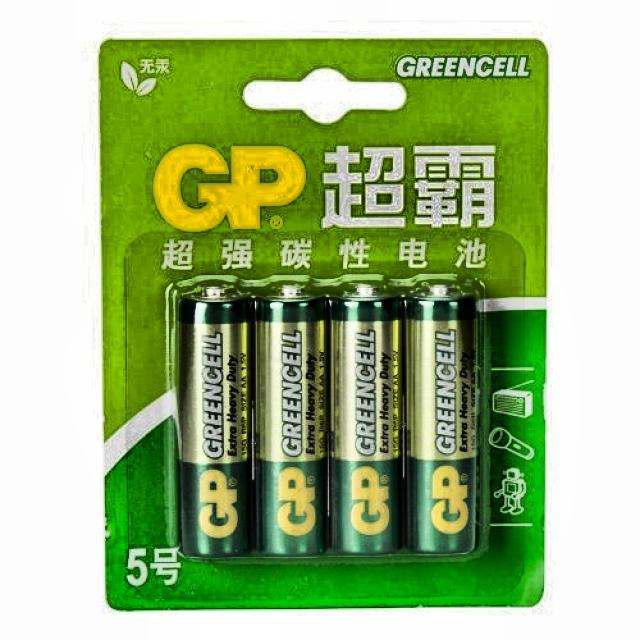Non-Valuable Waste - Batteries: (330, 290, 401, 554), (405, 296, 476, 554), (178, 299, 249, 556), (255, 296, 325, 555)
